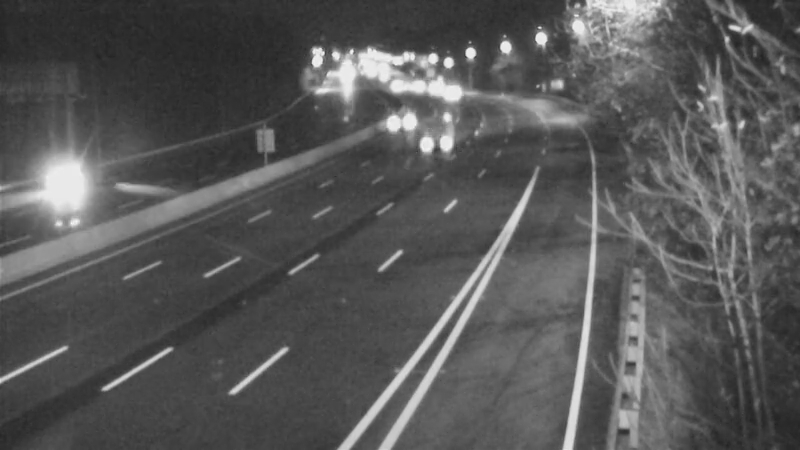vehicle: (30, 143, 110, 223), (406, 63, 456, 113), (427, 64, 477, 114), (376, 94, 426, 144), (405, 105, 455, 155)
